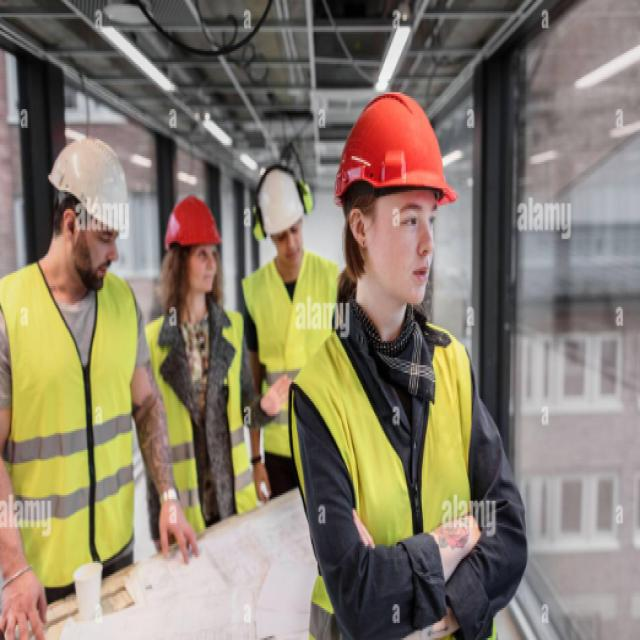helmet: (335, 89, 457, 310), (48, 132, 134, 292), (165, 186, 222, 310), (258, 168, 306, 274)
vest: (282, 313, 479, 640), (0, 252, 143, 590), (140, 303, 258, 527), (238, 247, 344, 472)
